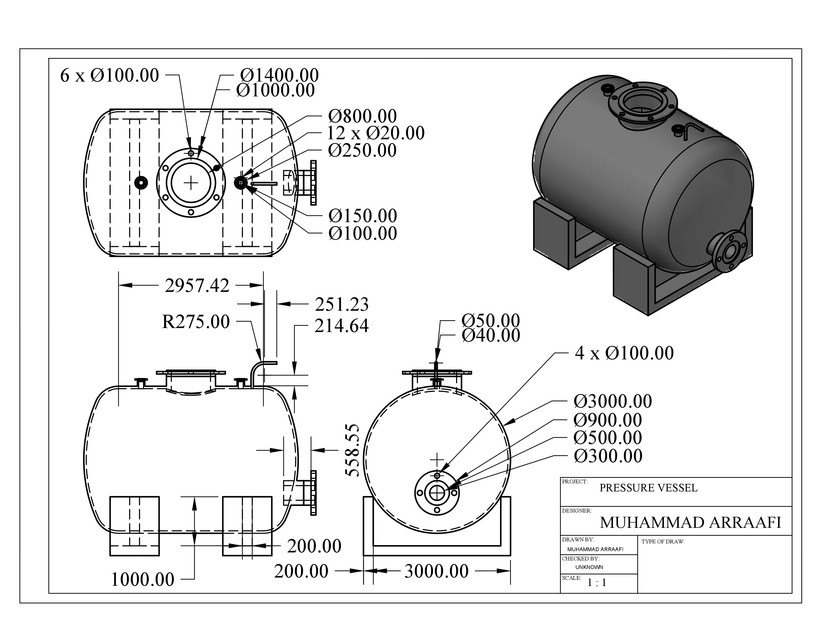nozzle: (392, 338, 492, 407), (600, 65, 687, 134), (694, 218, 766, 286), (269, 470, 345, 527), (263, 158, 331, 214)
